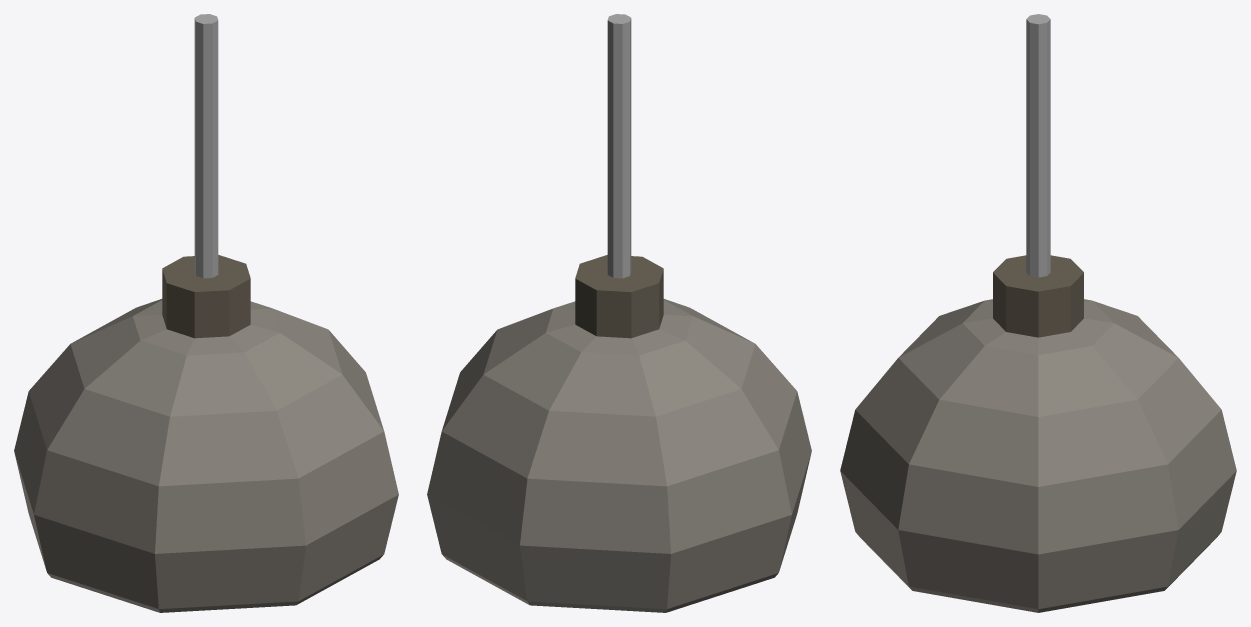
The model's file is Lamp.fbx.
3 renders of one model, left to right at view 1: azimuth 30°, elevation 25°; view 2: azimuth 150°, elevation 25°; view 3: azimuth 270°, elevation 25°, orthographic.
Visible parts, largest first — view 1: pSphere5; view 2: pSphere5; view 3: pSphere5.
Boxes of the visible parts, x1,y1,x2,y2 form: pSphere5: (14,14,398,612); pSphere5: (427,14,811,612); pSphere5: (840,14,1236,612).
Size of the model in its own units: 1.3 by 1.87 by 1.3.
